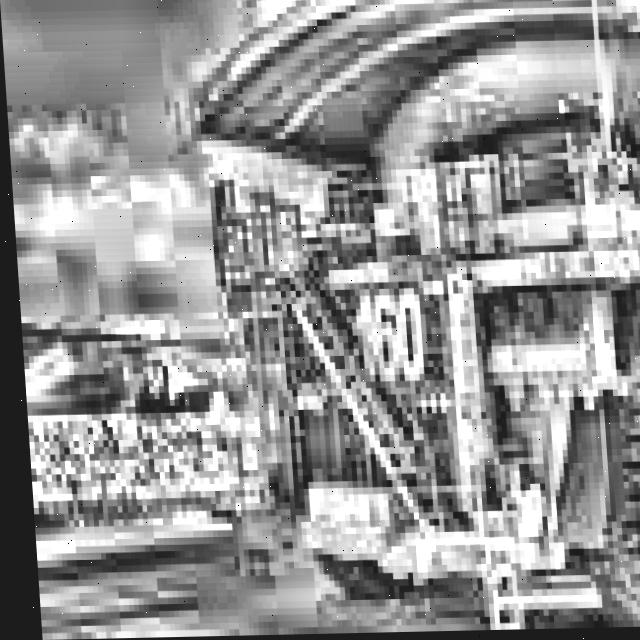dump_truck: (118, 0, 640, 638)
